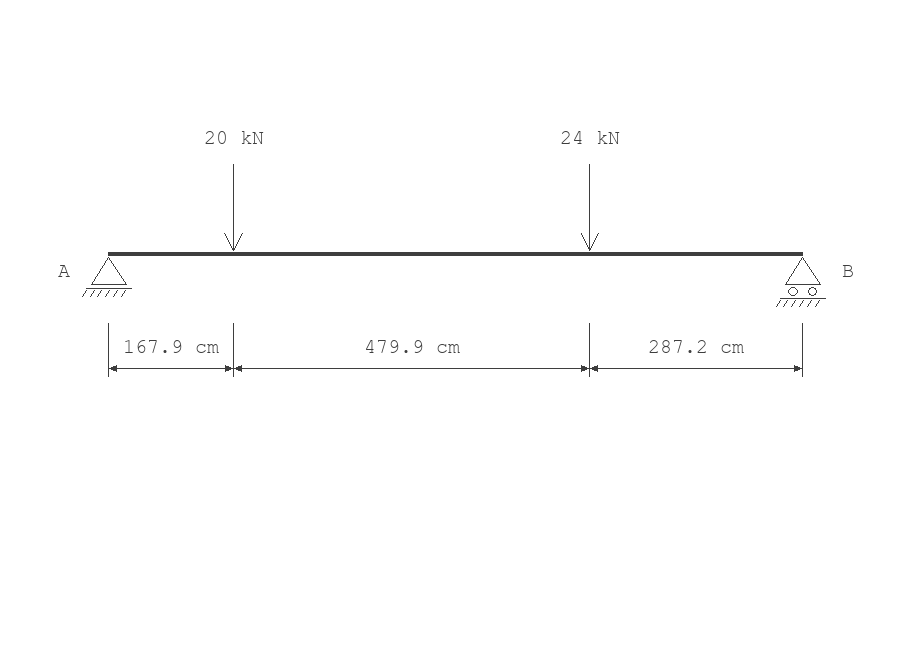pin_support: (82, 257, 132, 297)
point_load: (224, 164, 243, 251), (581, 164, 599, 251)
roller_support: (776, 257, 826, 307)
